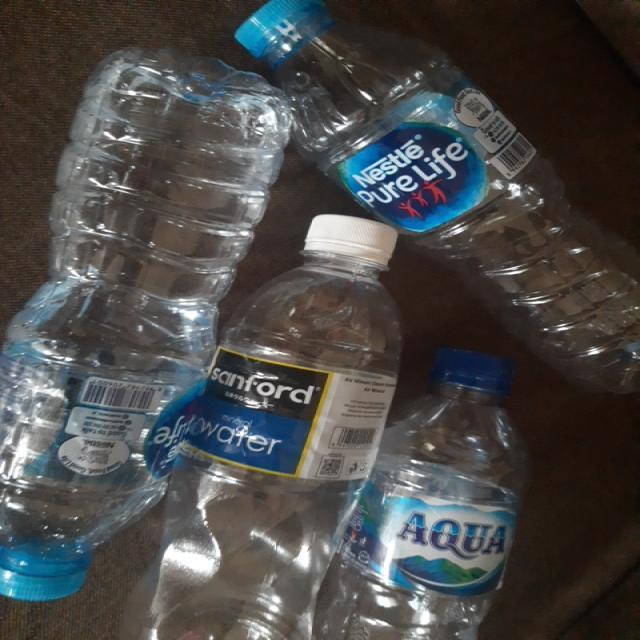PET Bottle: (229, 0, 639, 415), (0, 33, 291, 605), (106, 195, 413, 639), (314, 349, 553, 633)
